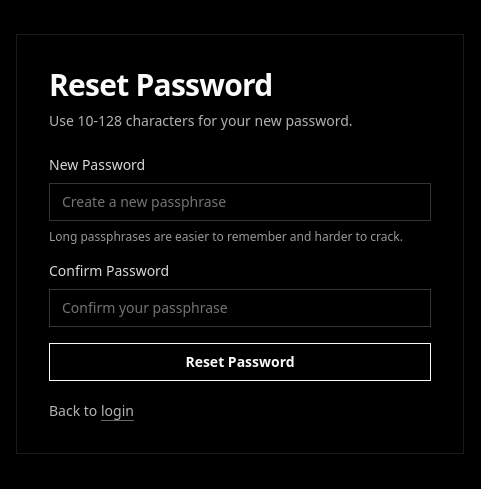
Test: /forgot-password/reset page › submits valid payload and shows completion message
In the password field labelled "New Password": {"x": 240, "y": 202} [49,183,431,221], type "long-enough-passphrase"
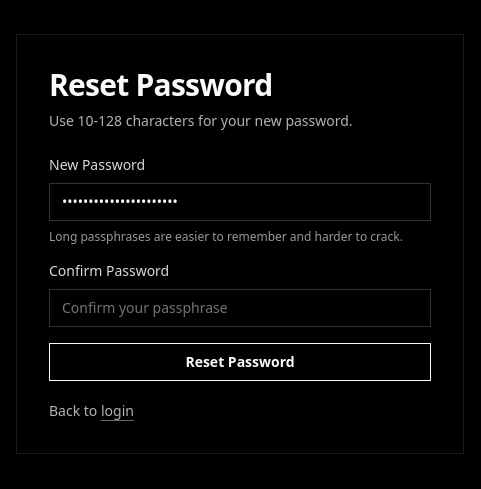
In the password field labelled "Confirm Password": {"x": 240, "y": 308} [49,289,431,327], type "long-enough-passphrase"
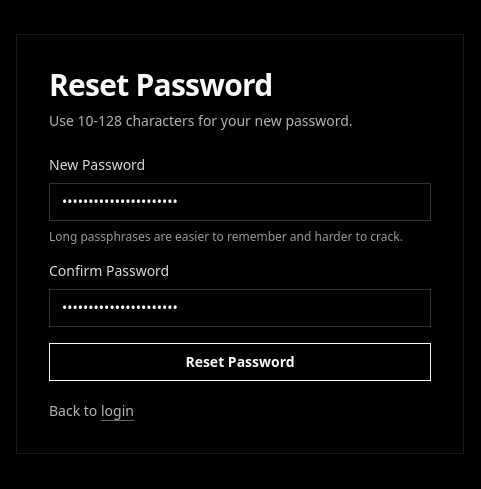
Click the button "Reset Password": {"x": 240, "y": 362} [49,343,431,381]
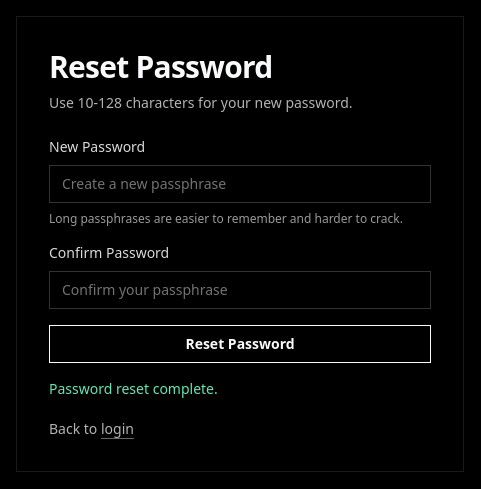
Result: the text "Password reset complete." is shown at [49,379,218,398]
